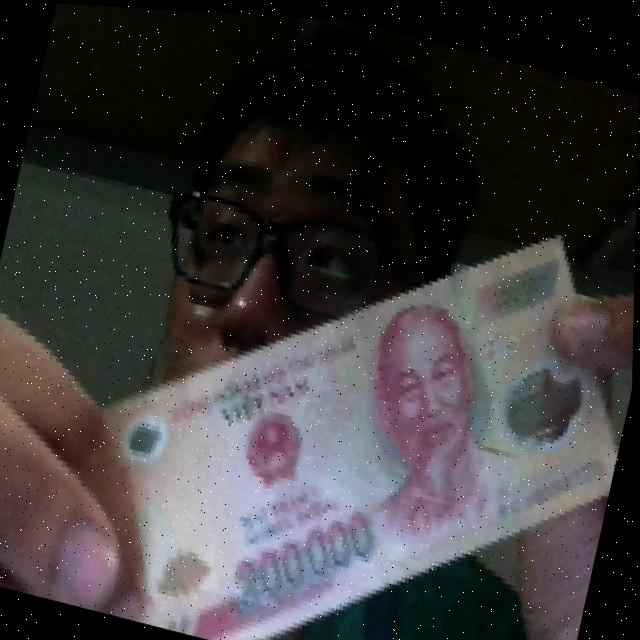200 000 VND: (50, 111, 638, 640)
